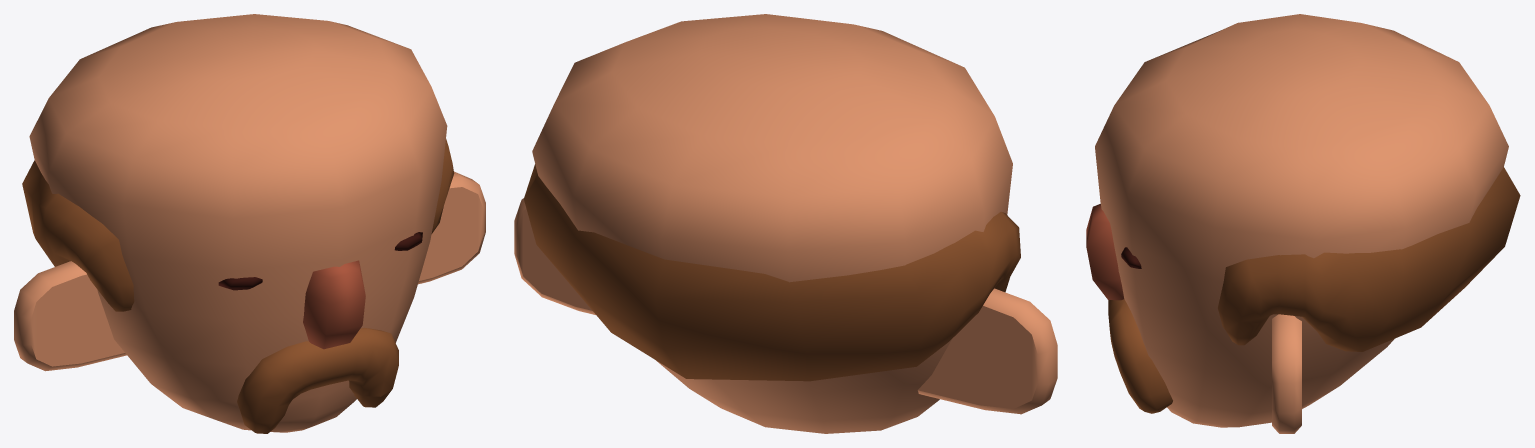
Rendered from NPC_Groundskeeper_Head_Sleeping.fbx.
The picture shows the model from 3 angles, left to right: view 1: azimuth 30°, elevation 25°; view 2: azimuth 150°, elevation 25°; view 3: azimuth 270°, elevation 25°; orthographic projection. The views are drawn at different scales.
Parts seen in each view (by area): view 1: NPC_Groundskeeper_Head_Sleeping; view 2: NPC_Groundskeeper_Head_Sleeping; view 3: NPC_Groundskeeper_Head_Sleeping.
Part boxes in pixels (x1,y1,x2,y2): NPC_Groundskeeper_Head_Sleeping: (14, 14, 485, 433); NPC_Groundskeeper_Head_Sleeping: (514, 14, 1057, 433); NPC_Groundskeeper_Head_Sleeping: (1086, 14, 1520, 433).
Size of the model in its own units: 3.32 by 2.3 by 2.61.
